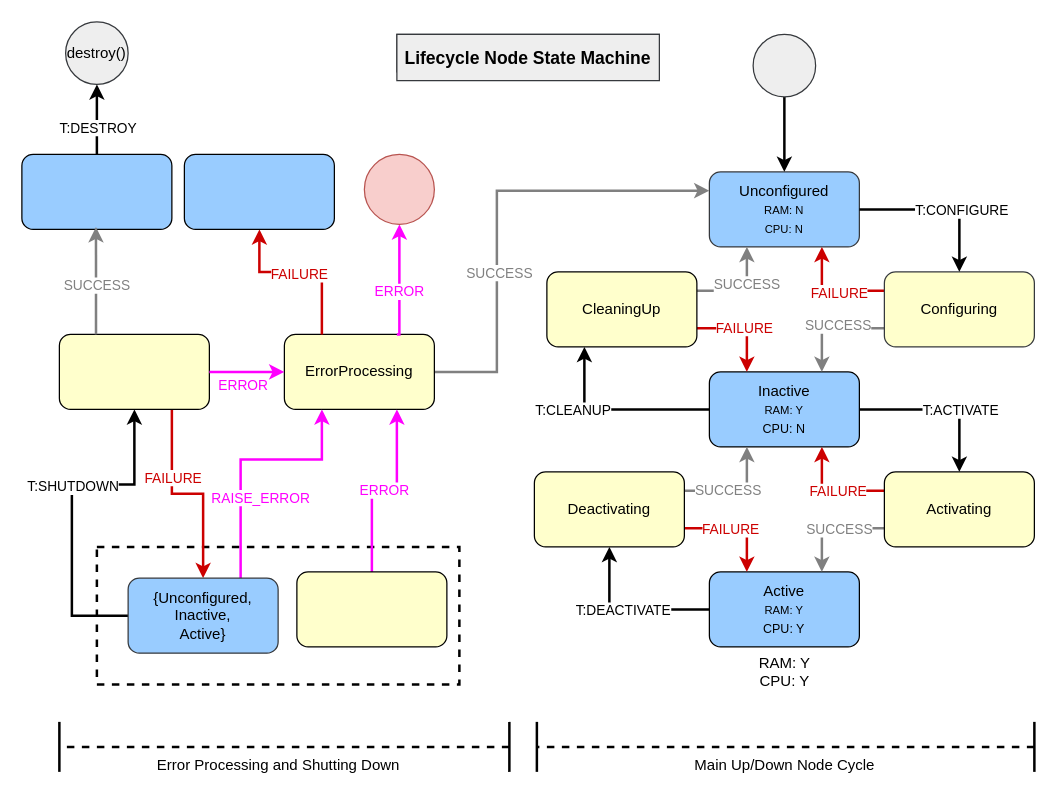
The diagram is 1059 pixels wide and 806 high, and some of its shapes have lost their labels. The centre of each missing label's shape, as x and y in pixels:
create(): [784,65]
Finalized: [96,191]
ShuttingDown: [133,371]
throw runtime error: [398,188]
UncleanFinalized: [258,191]
{Configuring, Activating, Deactivating, CleaningUp}: [371,609]
